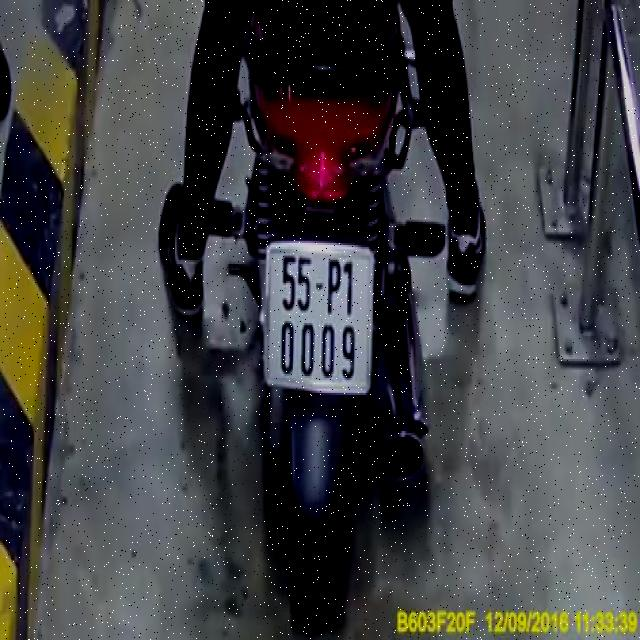0: (278, 321, 298, 378), (320, 321, 336, 377), (300, 321, 314, 381)
1: (343, 257, 355, 320)
5: (280, 250, 297, 316), (296, 254, 314, 314)
9: (340, 321, 359, 386)
P: (325, 255, 344, 319)
